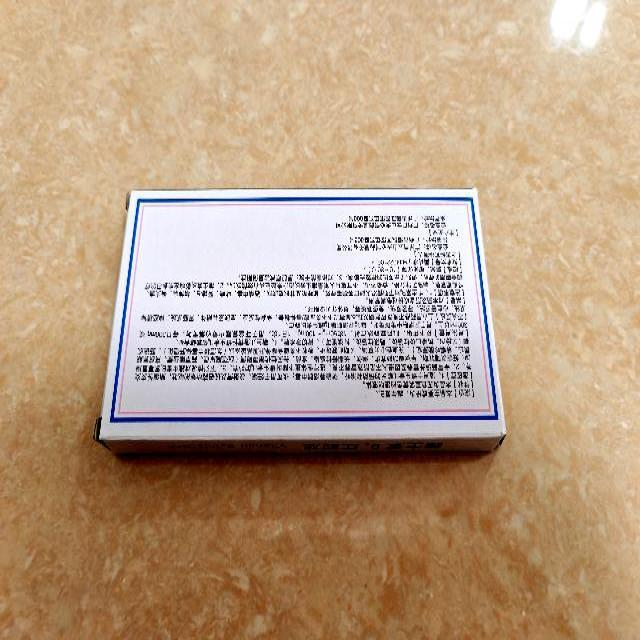box: (99, 188, 508, 458)
